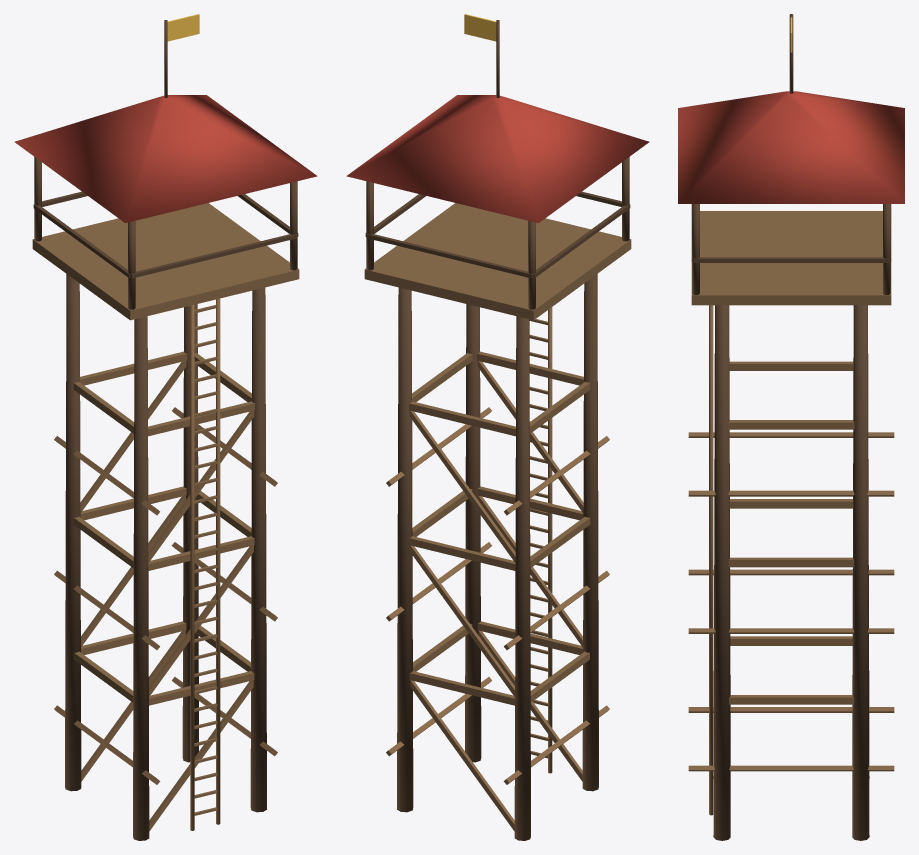
Rendered from seyir_kulesi.glb.
The picture shows the model from 3 angles, left to right: view 1: azimuth 30°, elevation 25°; view 2: azimuth 150°, elevation 25°; view 3: azimuth 270°, elevation 25°; orthographic projection. The views are drawn at different scales.
Parts seen in each view (by area): view 1: seyir_kulesi; view 2: seyir_kulesi; view 3: seyir_kulesi.
Part boxes in pixels (x1=…): seyir_kulesi: x1=14, y1=14, x2=317, y2=840; seyir_kulesi: x1=346, y1=14, x2=649, y2=840; seyir_kulesi: x1=678, y1=14, x2=904, y2=840.
Size of the model in its own units: 5.23 by 20.24 by 5.23.
